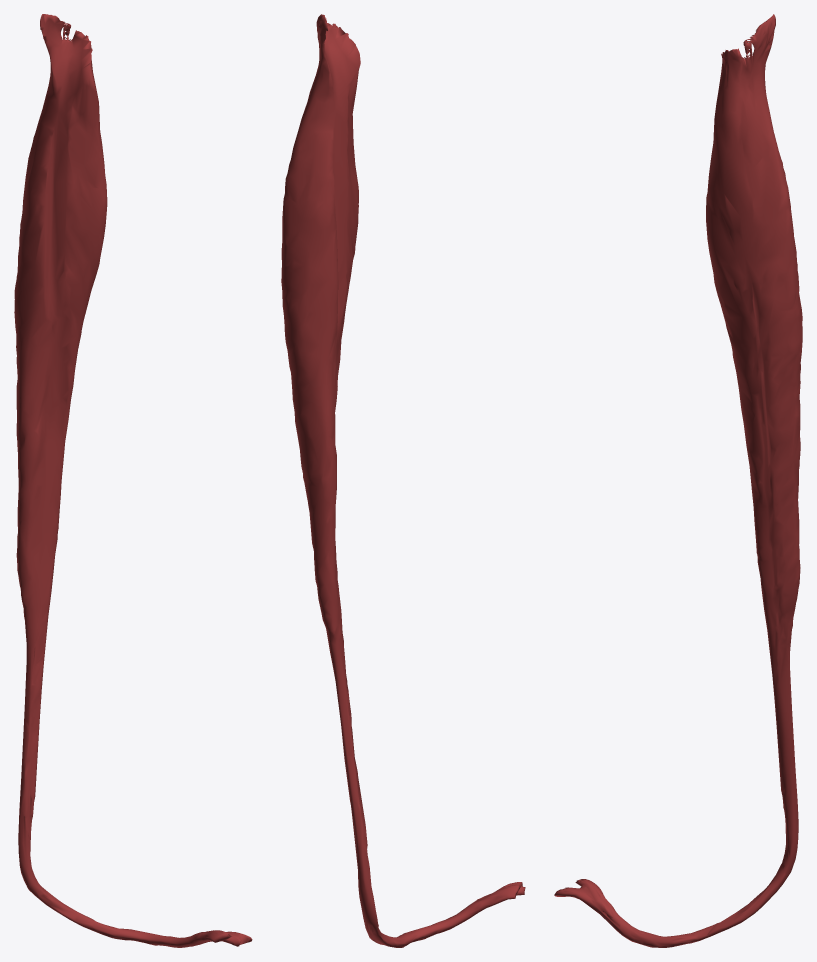
Rendered from fibularis-longus-muscle-l.glb.
3 views of the same model, side by side, from view 1: azimuth 90°, elevation 25°; view 2: azimuth 150°, elevation 25°; view 3: azimuth 270°, elevation 25° (orthographic). The views are drawn at different scales.
Visible parts, largest first — view 1: Fibularis longus muscle.l; view 2: Fibularis longus muscle.l; view 3: Fibularis longus muscle.l.
Boxes of the visible parts, x1,y1,x2,y2 form: Fibularis longus muscle.l: [14, 14, 252, 947]; Fibularis longus muscle.l: [281, 14, 525, 947]; Fibularis longus muscle.l: [554, 14, 802, 947].
Size of the model in its own units: 0.0587 by 0.3792 by 0.0897.
